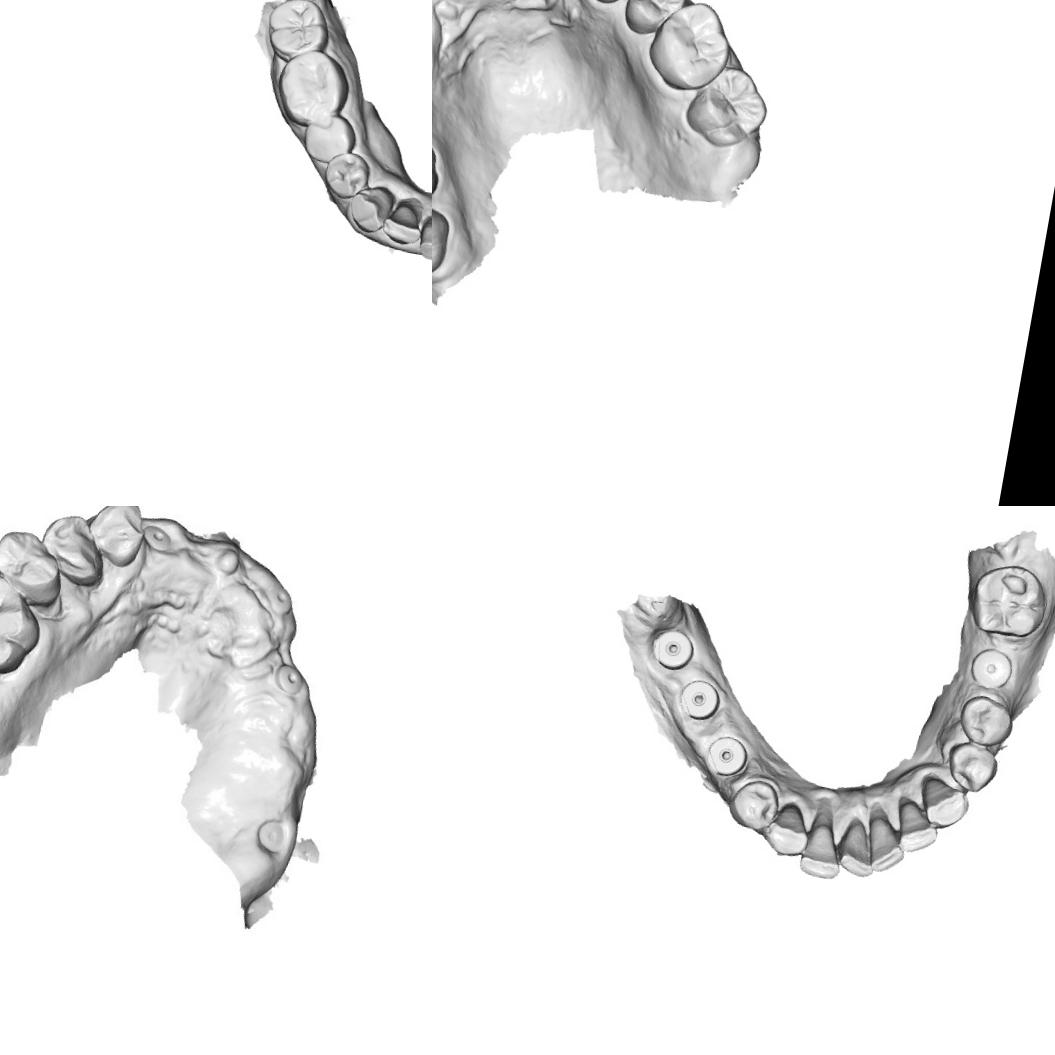canine: (79, 506, 153, 567), (914, 769, 974, 832), (759, 798, 816, 860), (345, 180, 396, 236)
implant: (966, 642, 1018, 694), (646, 624, 698, 675), (700, 731, 752, 780), (674, 674, 724, 724), (269, 654, 310, 699), (254, 814, 288, 856), (261, 579, 298, 615), (140, 519, 176, 555)
incisor: (860, 807, 912, 878), (796, 814, 849, 883), (889, 792, 944, 858), (831, 814, 885, 880), (378, 196, 426, 246), (415, 216, 432, 264)
molar: (678, 57, 774, 154), (642, 0, 738, 96), (963, 557, 1052, 644), (271, 44, 355, 132), (0, 563, 47, 676), (260, 0, 334, 67), (432, 196, 452, 283)
premolar: (30, 506, 111, 586), (0, 525, 64, 601), (954, 689, 1017, 751), (298, 108, 360, 168), (942, 736, 1002, 797), (724, 775, 783, 835), (618, 0, 689, 41), (320, 148, 373, 202)
